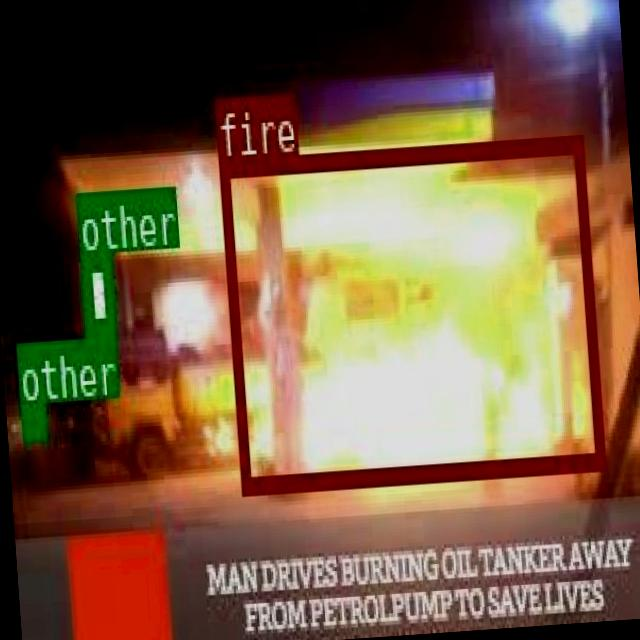fire: (217, 133, 603, 490)
